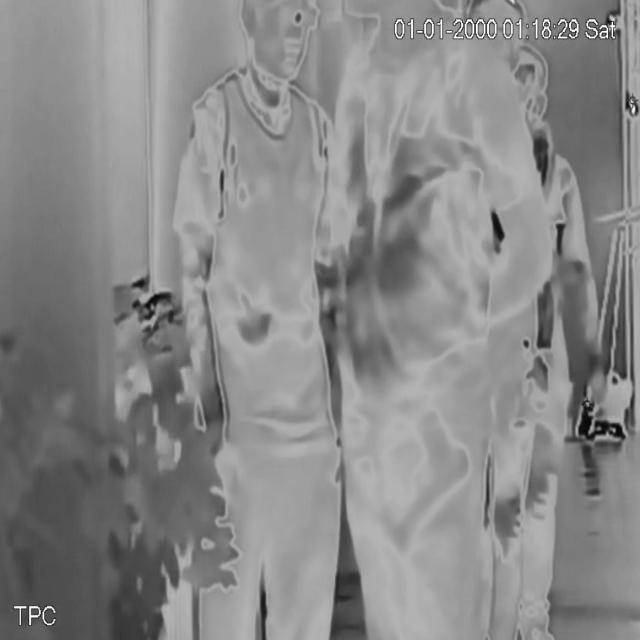Weapon: (383, 407, 484, 567)
